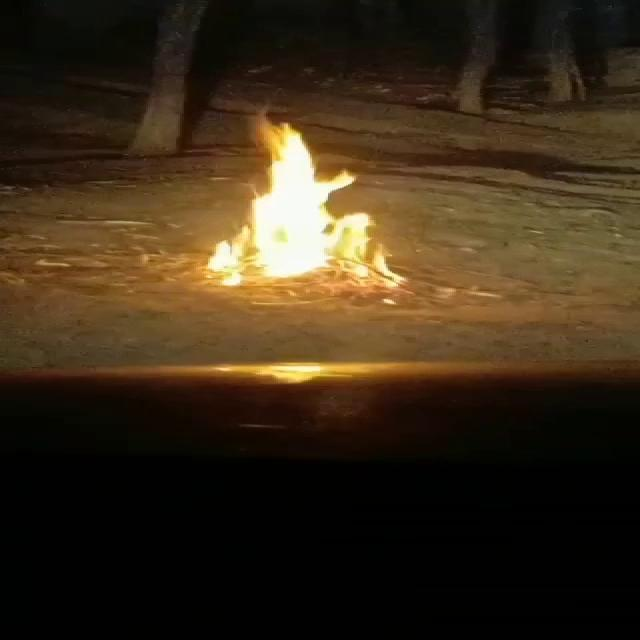Fire: (206, 125, 406, 294)
